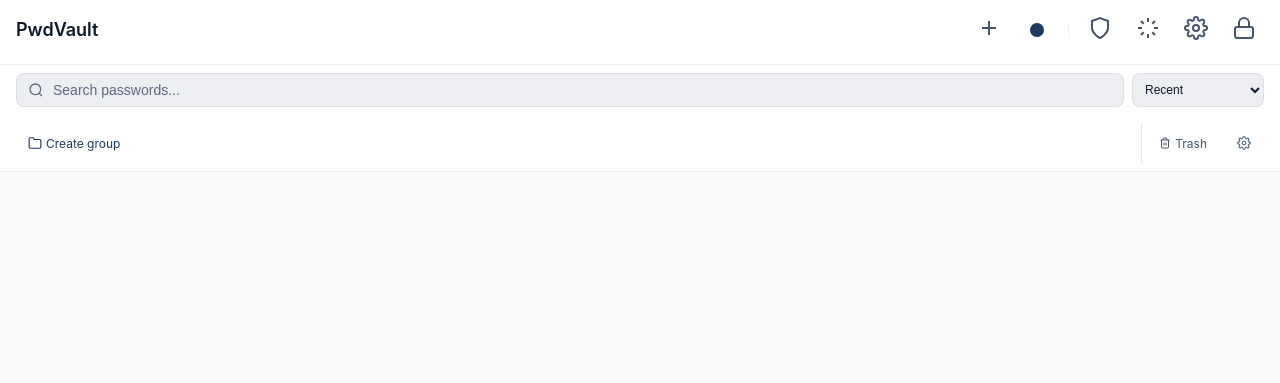
Test: VaultScreen trash (v1.4.0) › shows the empty state once the trash is cleared
Click the button "Trash": (1183, 143) [1146,131,1220,156]
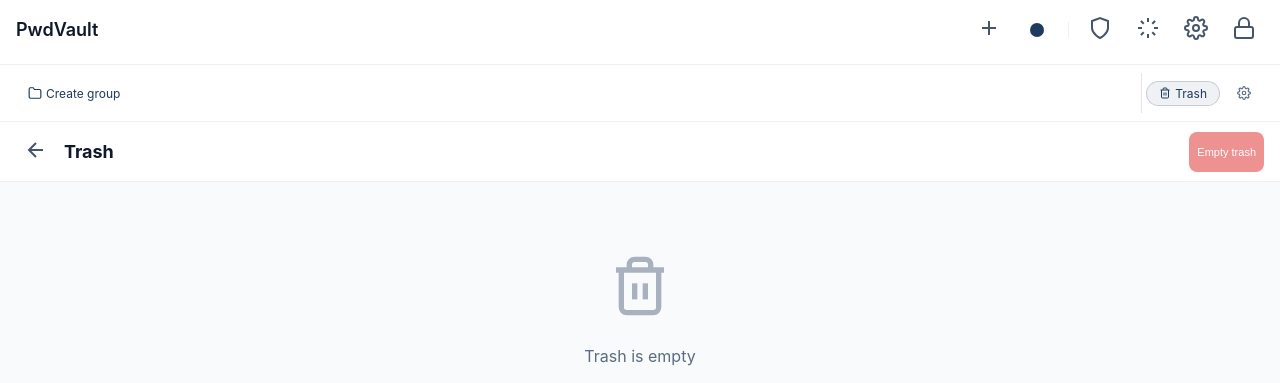
Expected: the text "Trash is empty" is shown, [584,346,696,366]
Expected: the button "Empty trash" is disabled, [1189,132,1264,172]
